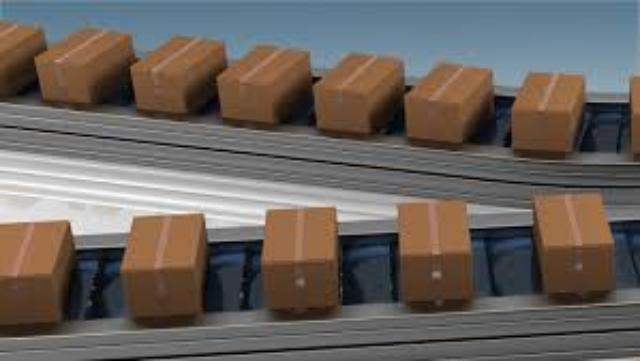cardboard paper: (120, 212, 201, 323), (531, 191, 612, 298), (259, 205, 334, 313), (396, 199, 469, 306), (216, 45, 310, 124), (36, 28, 135, 103), (0, 218, 71, 321), (405, 62, 492, 146), (131, 36, 225, 113), (313, 54, 402, 135), (509, 73, 582, 158)
